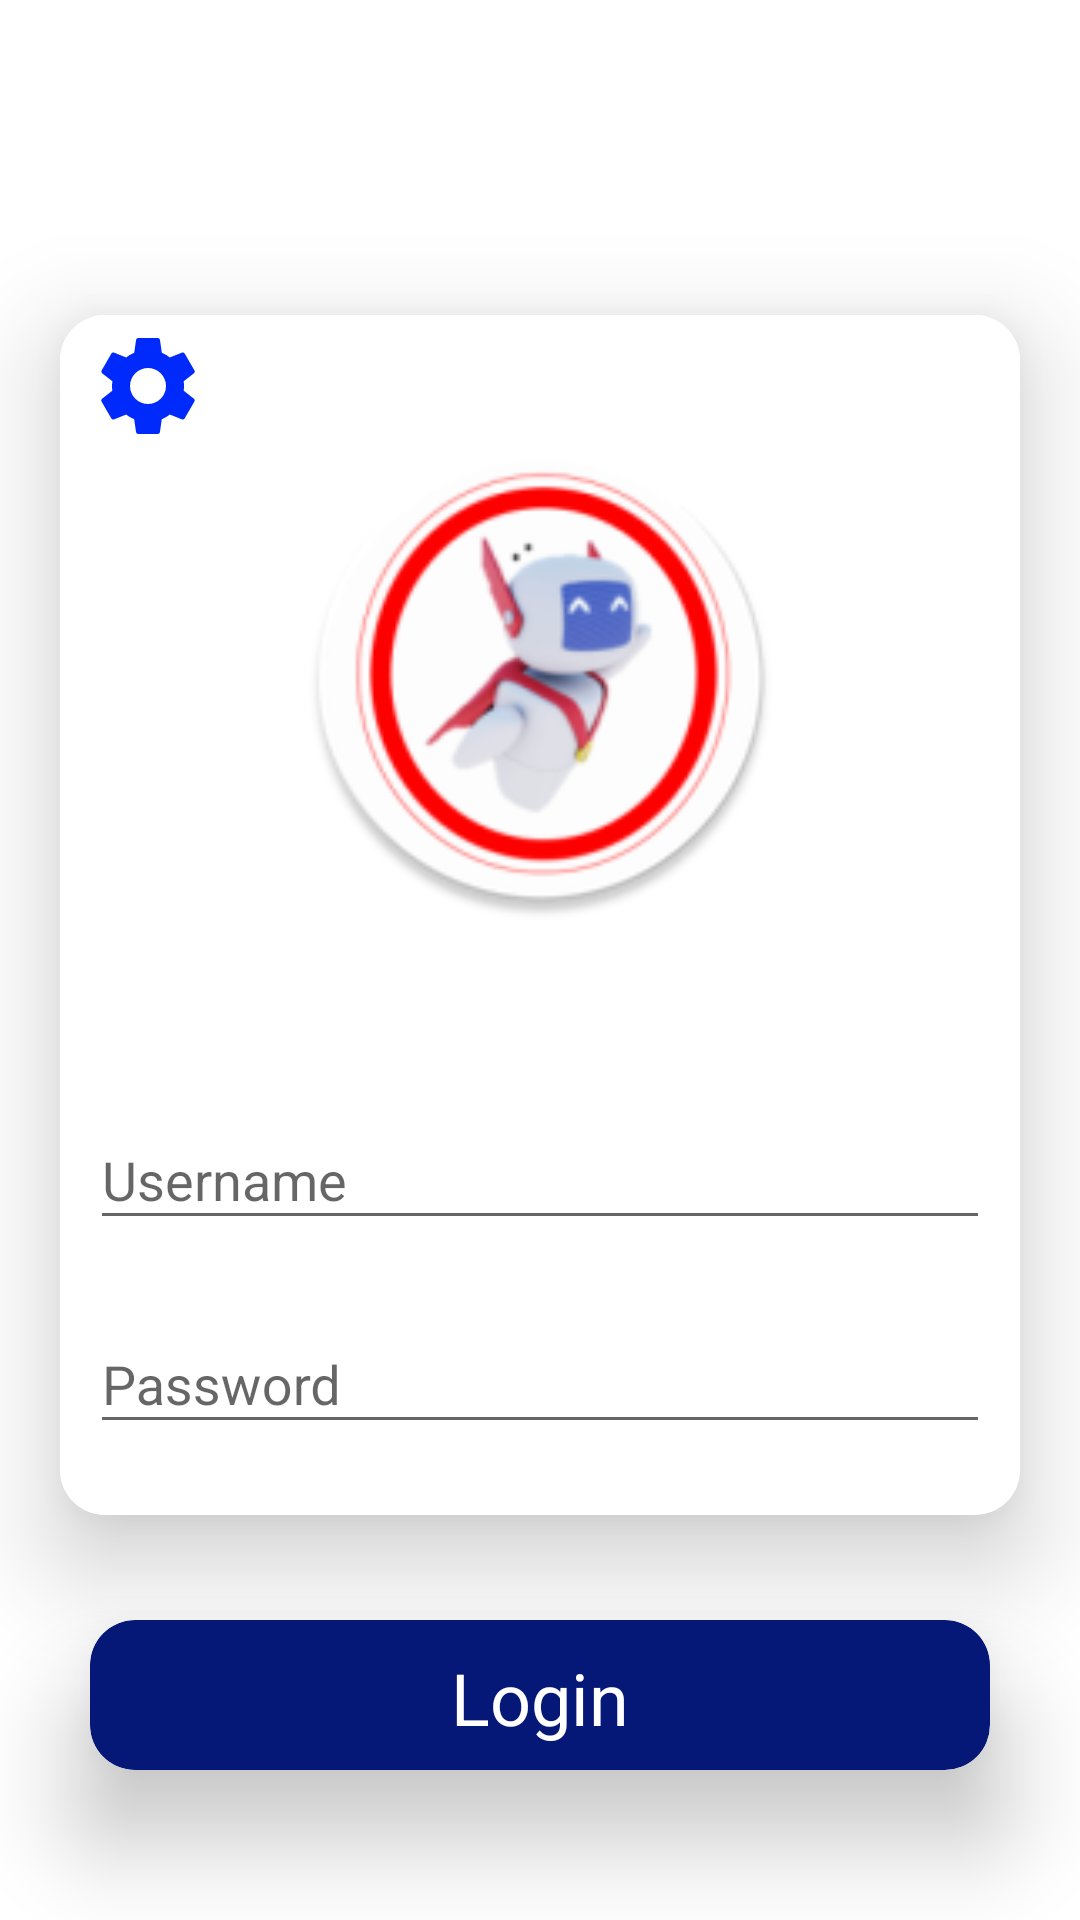

Icon click points for this 1080*1920 phone screenshot, format [x,y]:
settings: [148,386]
